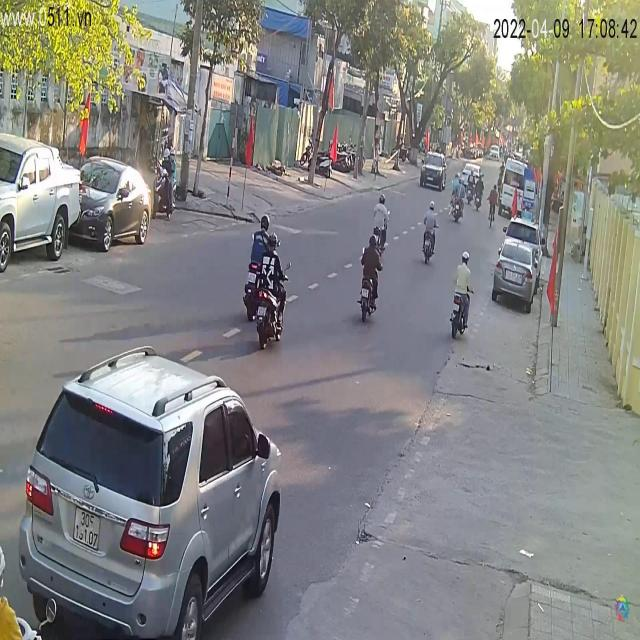car: (15, 340, 293, 640), (1, 130, 83, 279), (73, 157, 156, 253), (491, 237, 545, 315), (421, 152, 449, 192)
motorcycle: (246, 262, 289, 348), (451, 290, 472, 341), (360, 277, 379, 322), (422, 227, 436, 263), (448, 198, 463, 221)
